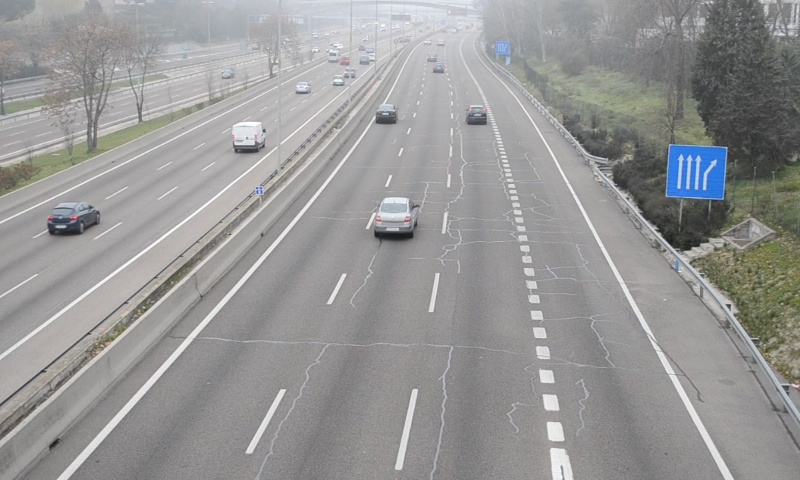car: (375, 198, 416, 236), (466, 105, 488, 125), (375, 104, 397, 124)
